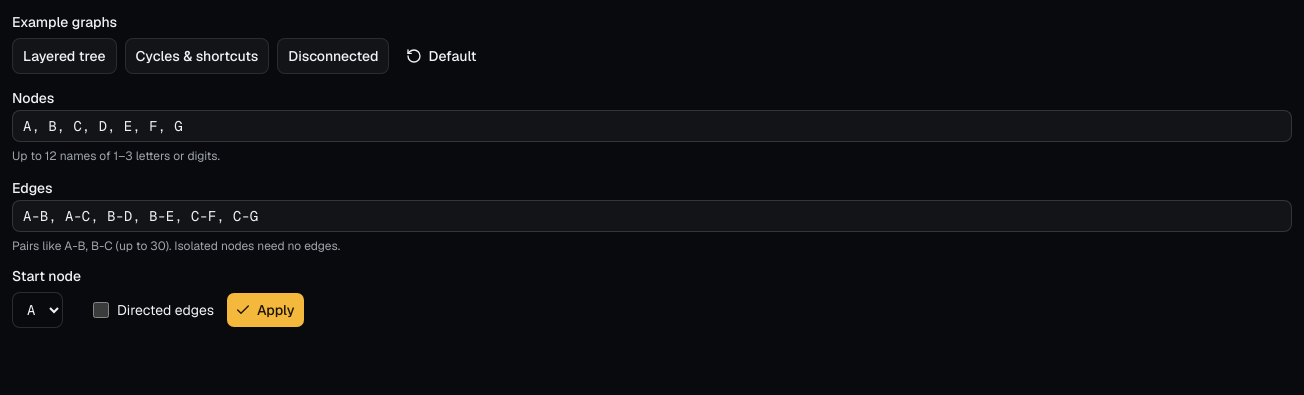
it: GraphInput › reports malformed edges
Replace the text in the field labelled "Edges" with "A+B". click: (652, 216)
box: [12,200,1292,232]
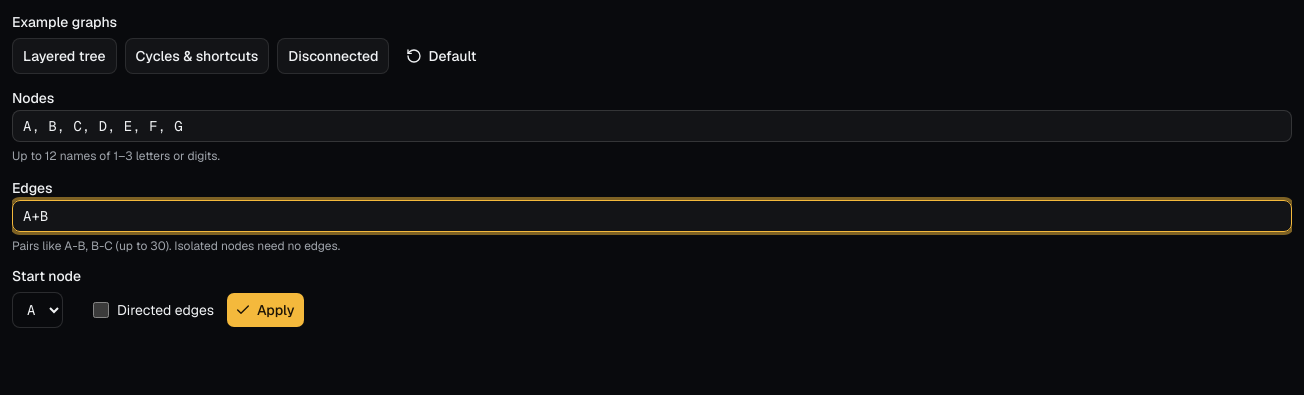
Click the button "Apply". click: (266, 310)
box: [226,292,305,328]
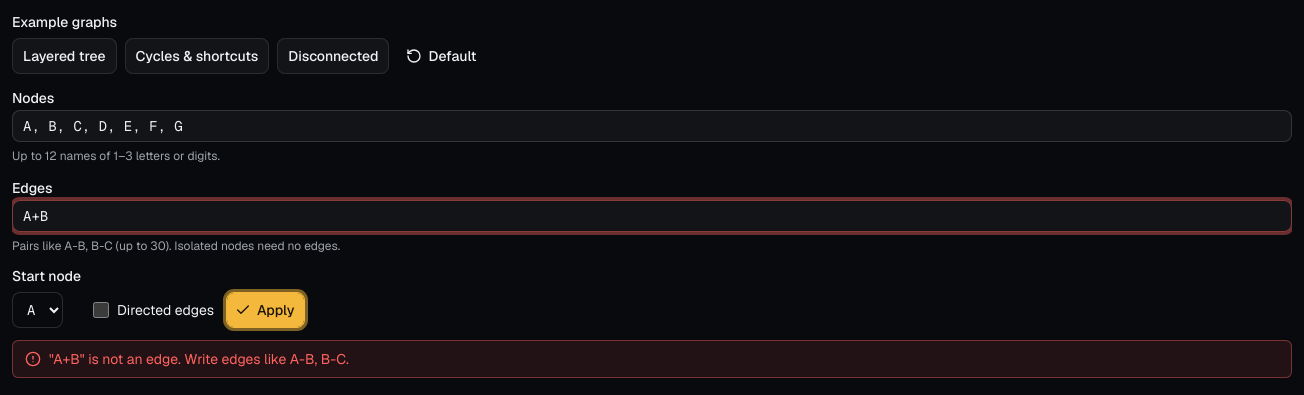
Expected: the message shows "is not an edge", [49,350,349,368]
